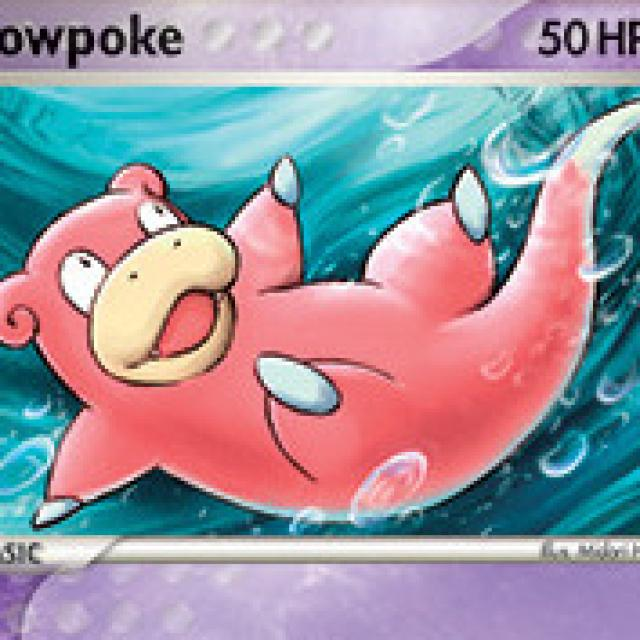Slowpoke: (4, 163, 538, 513)
